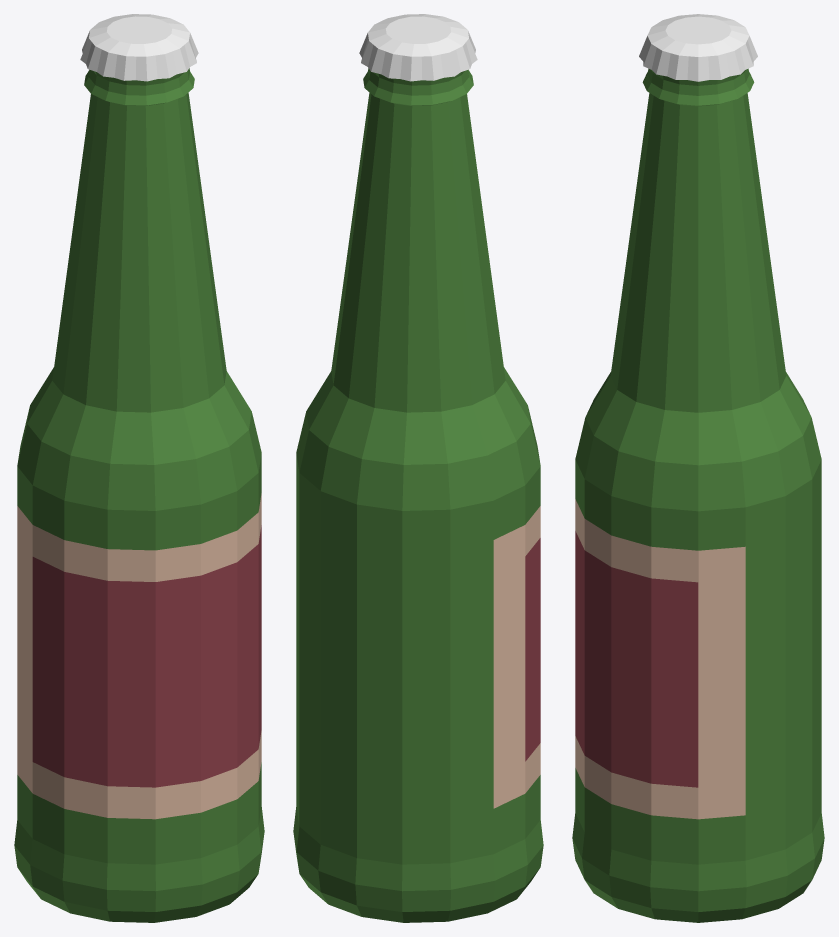
3 renders of one model, left to right at view 1: azimuth 30°, elevation 25°; view 2: azimuth 150°, elevation 25°; view 3: azimuth 270°, elevation 25°, orthographic.
Parts seen in each view (by area): view 1: BeerBottle; view 2: BeerBottle; view 3: BeerBottle.
Boxes of the visible parts, x1=… form: BeerBottle: x1=14, y1=14, x2=264, y2=922; BeerBottle: x1=293, y1=14, x2=543, y2=922; BeerBottle: x1=572, y1=14, x2=824, y2=922.
Bounding box in the file's own units: 506 × 1868 × 506.
